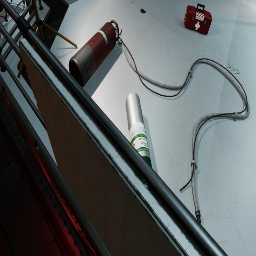0: (126, 93, 152, 190)
FirstAidBox ,: (184, 3, 212, 35)
NitrogenTank ,: (69, 20, 119, 88)
